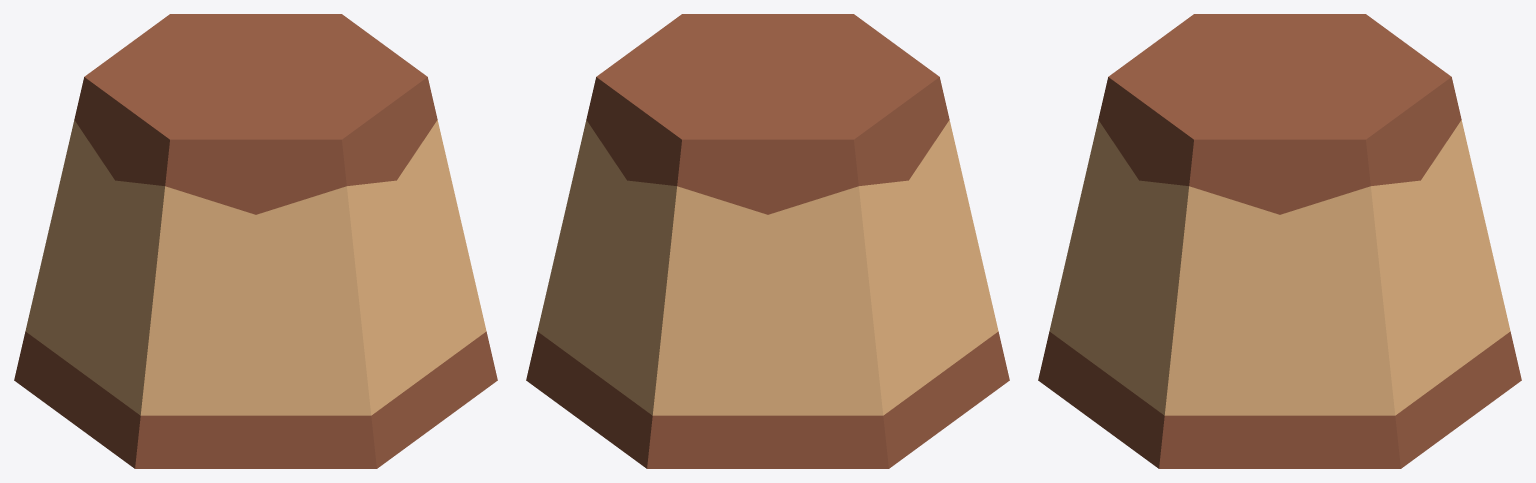
File: pudding.fbx
The picture shows the model from 3 angles, left to right: view 1: azimuth 30°, elevation 25°; view 2: azimuth 150°, elevation 25°; view 3: azimuth 270°, elevation 25°; orthographic projection.
Parts seen in each view (by area): view 1: pudding; view 2: pudding; view 3: pudding.
Part boxes in pixels (x1,y1,x2,y2): pudding: (14, 14, 497, 468); pudding: (526, 14, 1009, 468); pudding: (1038, 14, 1521, 468).
Size of the model in its own units: 2.5 by 2 by 2.89.
